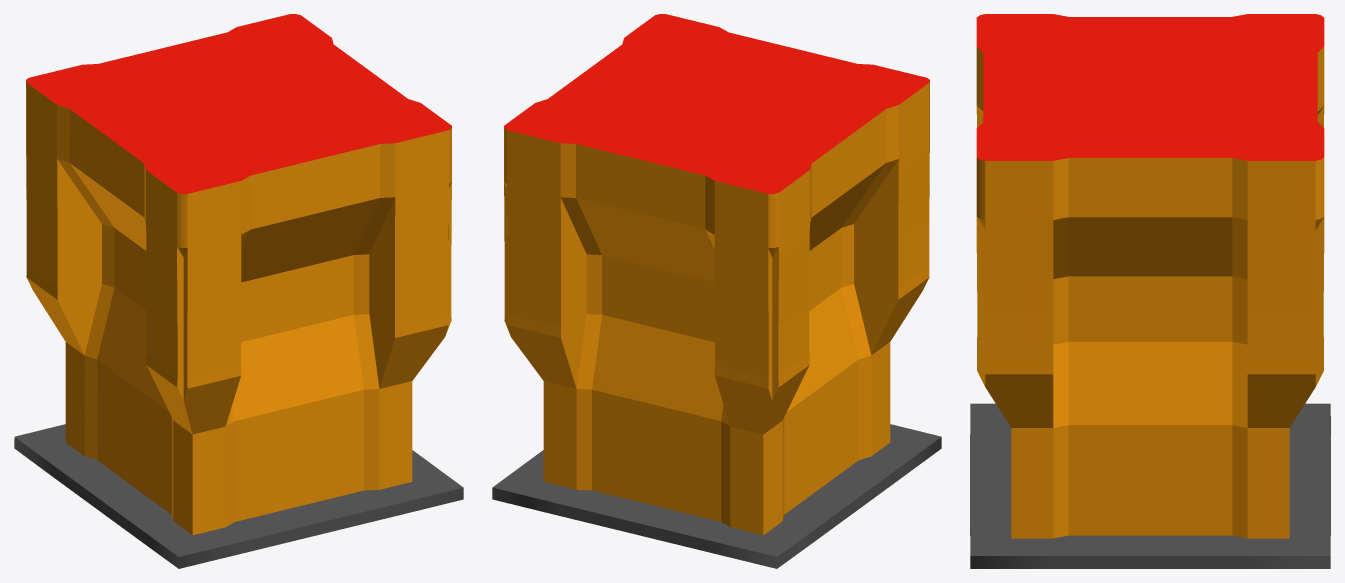
3 views of the same model, side by side, from view 1: azimuth 30°, elevation 25°; view 2: azimuth 150°, elevation 25°; view 3: azimuth 270°, elevation 25° (orthographic). The views are drawn at different scales.
Visible parts, largest first — view 1: S21; view 2: S21; view 3: S21.
Part boxes in pixels (box(x1,y1,x2,y2)): S21: box(14, 14, 463, 568); S21: box(492, 14, 941, 568); S21: box(970, 14, 1330, 568).
Bounding box in the file's own units: 200 × 248 × 200.
